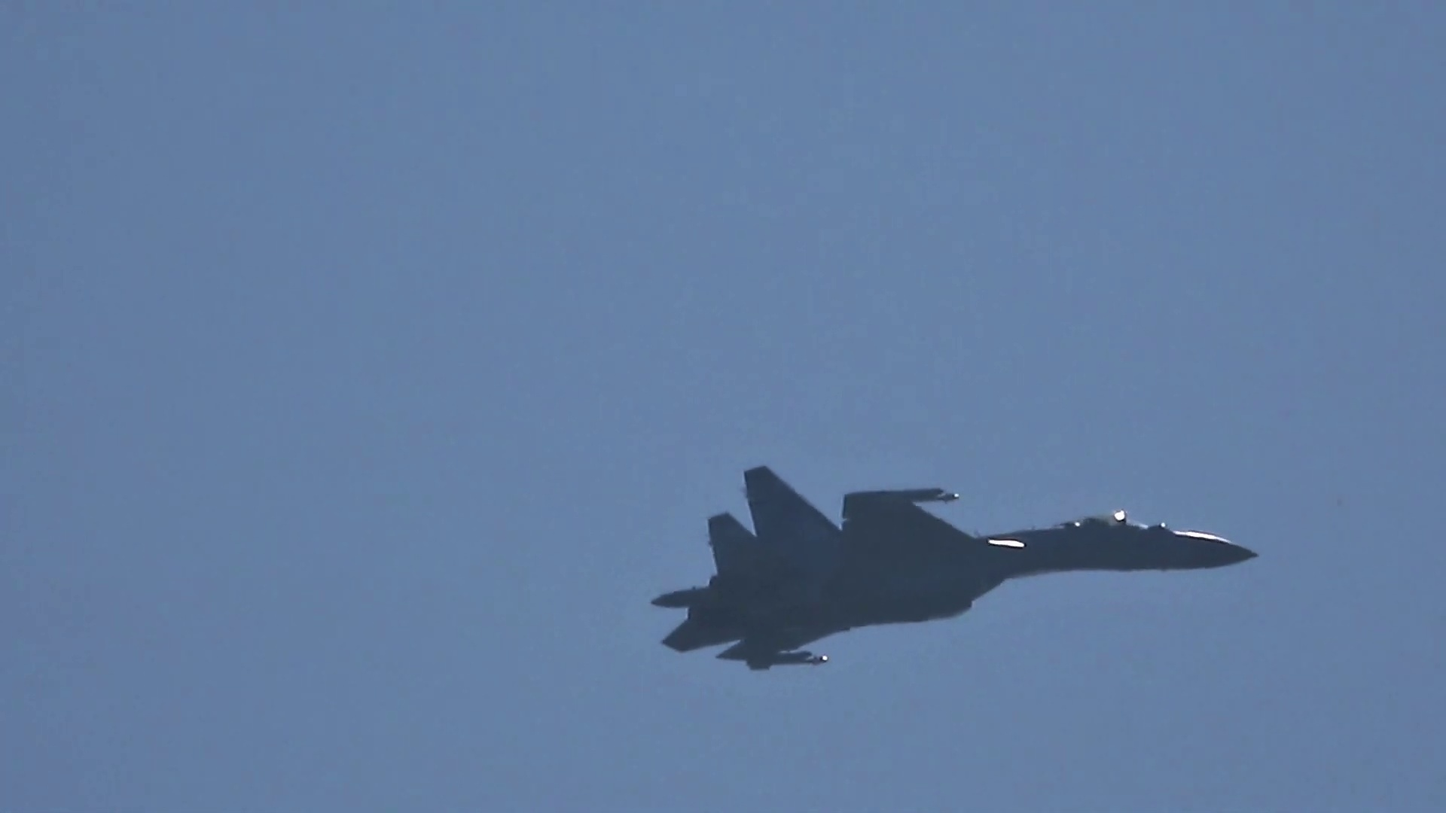Su35: (650, 465, 1259, 671)
